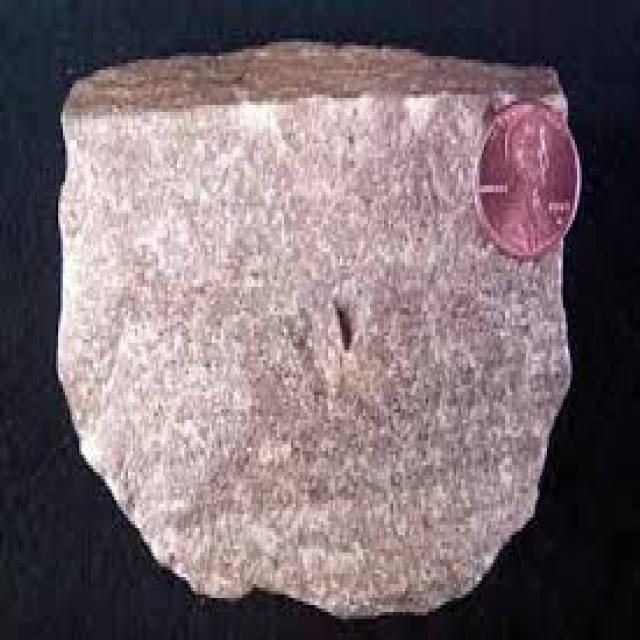Metamorphic: (54, 35, 577, 622)
